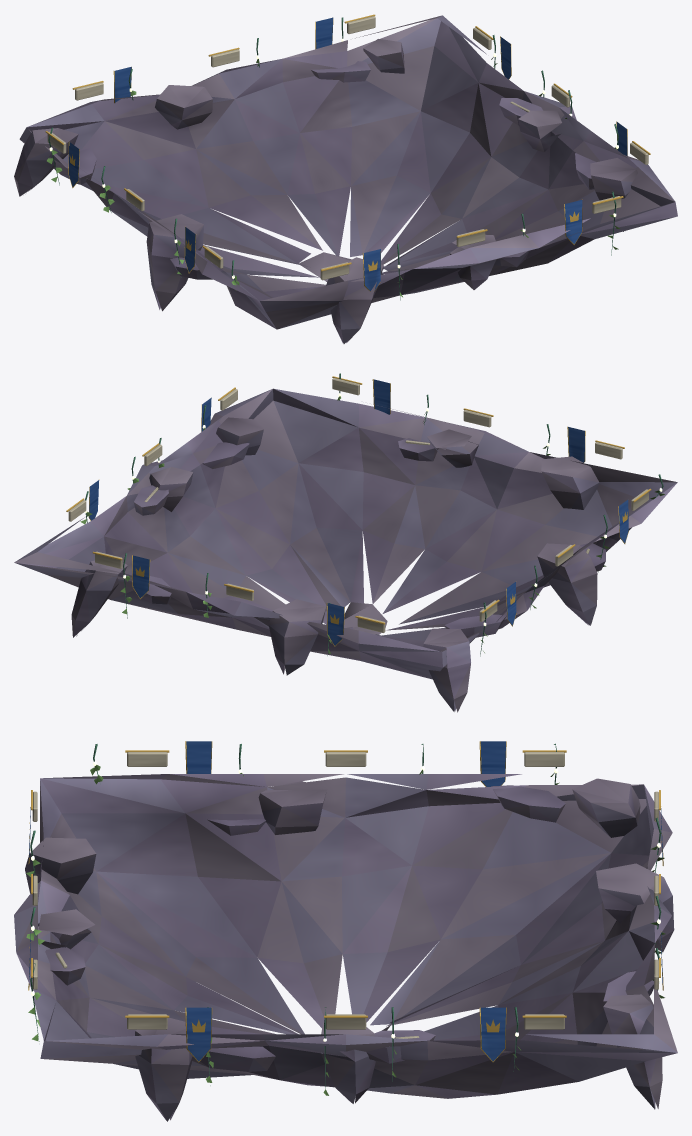
File: crown-foundation-v4-low.glb
3 views of the same model, one above another, from view 1: azimuth 30°, elevation 25°; view 2: azimuth 150°, elevation 25°; view 3: azimuth 270°, elevation 25° (orthographic). The views are drawn at different scales.
Visible parts, largest first — view 1: crown-foundation-v4; view 2: crown-foundation-v4; view 3: crown-foundation-v4.
Part boxes in pixels (box(x1,y1,x2,y2)): crown-foundation-v4: box(14, 14, 677, 343); crown-foundation-v4: box(14, 373, 677, 712); crown-foundation-v4: box(14, 741, 677, 1121).
Bounding box in the file's own units: 26.66 × 8.35 × 27.07.
7 materials, 7 textured.
